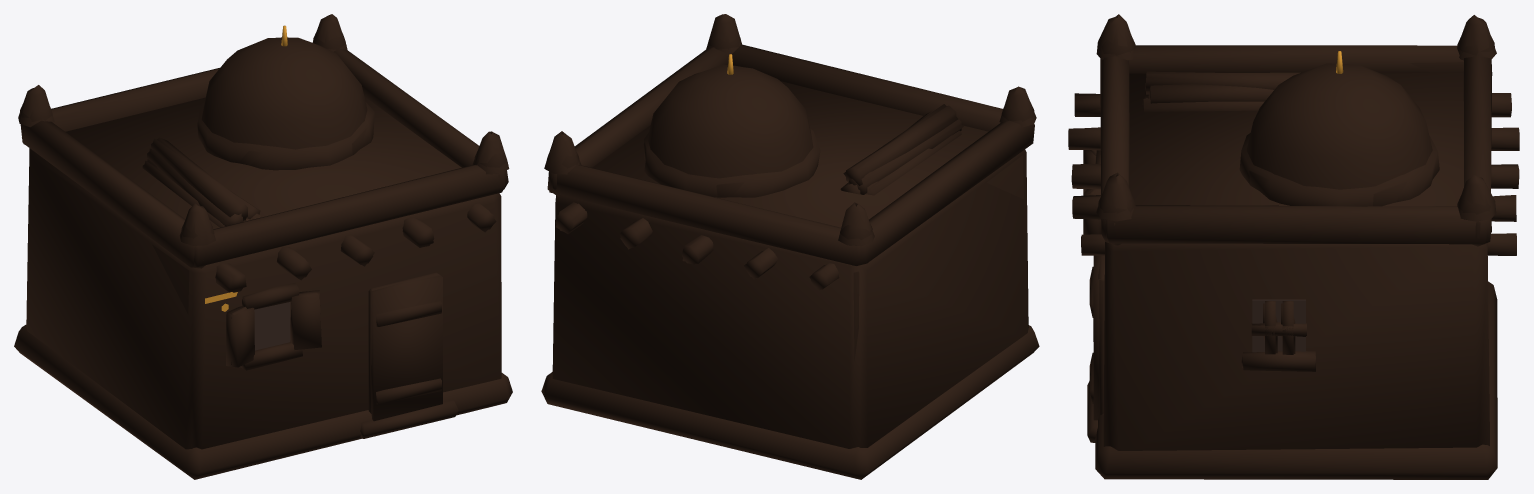
The model's file is house_c.glb.
The picture shows the model from 3 angles, left to right: view 1: azimuth 30°, elevation 25°; view 2: azimuth 150°, elevation 25°; view 3: azimuth 270°, elevation 25°; orthographic projection. The views are drawn at different scales.
Visible parts, largest first — view 1: house_c_LOD1_outline, house_c_outline, house_c; view 2: house_c_LOD1_outline, house_c_outline; view 3: house_c_LOD1_outline, house_c_outline, house_c.
Boxes of the visible parts, x1,y1,x2,y2 form: house_c_LOD1_outline: [14, 14, 512, 479]; house_c_outline: [20, 23, 507, 432]; house_c: [205, 25, 290, 350]; house_c_LOD1_outline: [541, 14, 1039, 479]; house_c_outline: [546, 27, 1034, 360]; house_c_LOD1_outline: [1068, 14, 1519, 479]; house_c_outline: [1068, 22, 1519, 446]; house_c: [1252, 51, 1343, 352].
Size of what is drawn, in the model's own units: 4.9 by 4.67 by 5.23.
